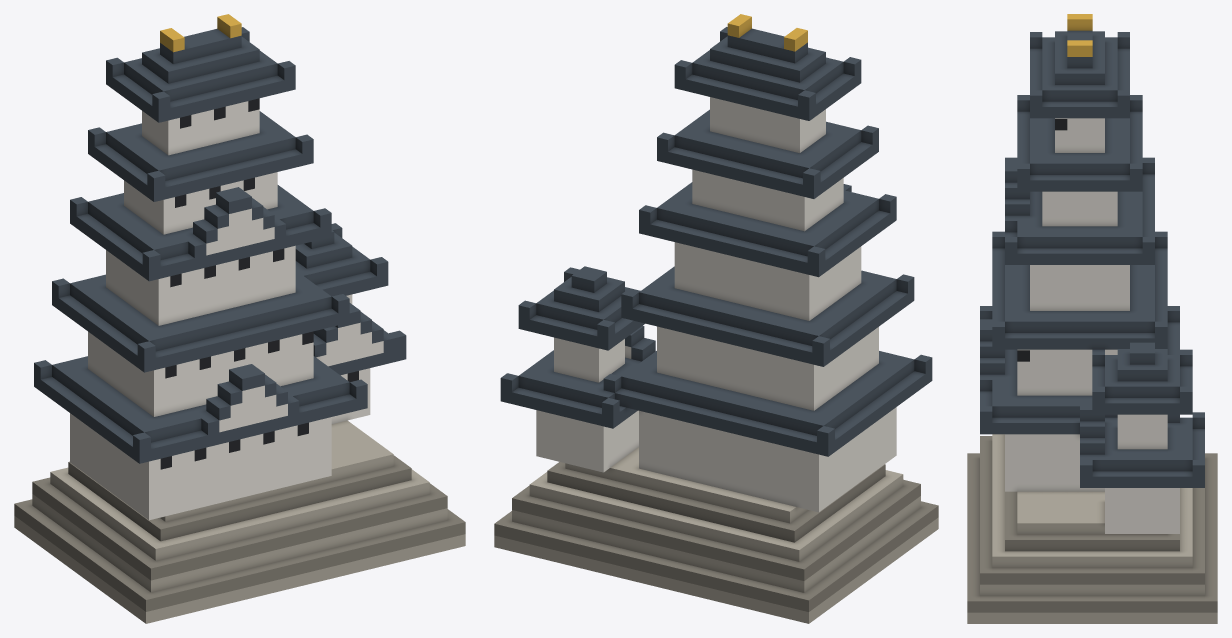
The model's file is w_himeji_castle.glb.
3 renders of one model, left to right at view 1: azimuth 30°, elevation 25°; view 2: azimuth 150°, elevation 25°; view 3: azimuth 270°, elevation 25°, orthographic. The views are drawn at different scales.
Parts seen in each view (by area): view 1: w_himeji_castle_body; view 2: w_himeji_castle_body; view 3: w_himeji_castle_body.
Part boxes in pixels (left/top/right/bottom): w_himeji_castle_body: left=14, top=14, right=465, bottom=623; w_himeji_castle_body: left=494, top=14, right=938, bottom=623; w_himeji_castle_body: left=967, top=14, right=1217, bottom=623.
Size of the model in its own units: 1.75 by 2.75 by 1.25.
1 material, 1 textured.
